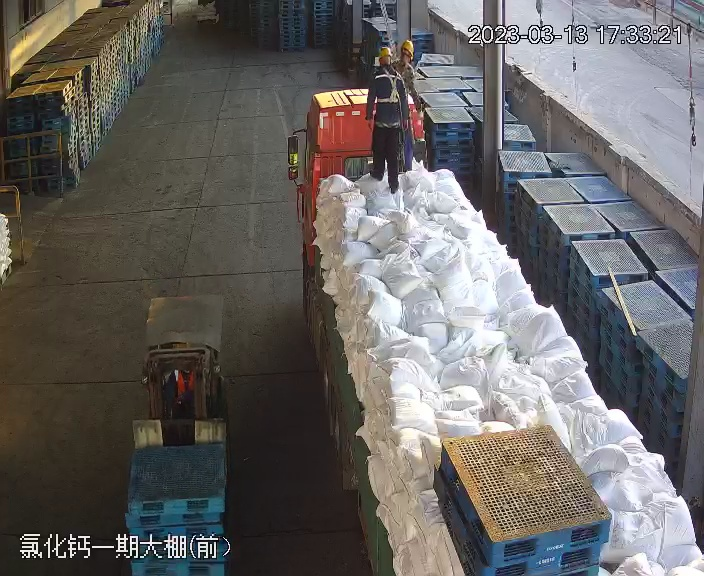belt: (375, 71, 404, 105), (394, 54, 413, 74)
head: (370, 47, 402, 91)
helmet: (400, 39, 414, 54), (378, 47, 392, 59)
people: (365, 47, 411, 192)
truck: (284, 77, 692, 573)
